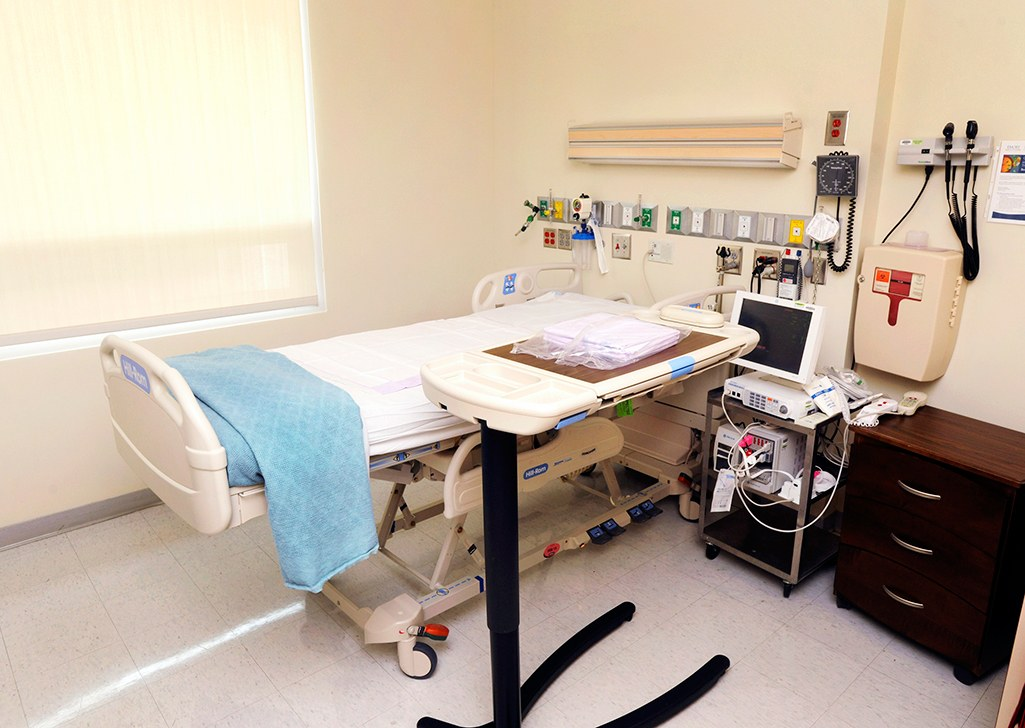bedside table: (408, 306, 758, 440)
hospital bed: (95, 259, 727, 524)
